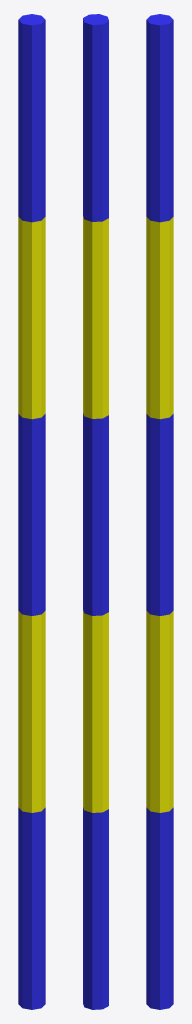
The model's file is equipment_0007_pole.glb.
The picture shows the model from 3 angles, left to right: view 1: azimuth 90°, elevation 25°; view 2: azimuth 210°, elevation 25°; view 3: azimuth 270°, elevation 25°; orthographic projection.
Parts seen in each view (by area): view 1: pole, pole2; view 2: pole, pole2; view 3: pole, pole2.
Boxes of the visible parts, bbox=[...] form: pole: bbox=[18, 14, 45, 1009]; pole2: bbox=[18, 217, 45, 812]; pole: bbox=[83, 14, 108, 1009]; pole2: bbox=[83, 216, 108, 812]; pole: bbox=[146, 14, 173, 1009]; pole2: bbox=[146, 217, 173, 812].
Size of the model in its own units: 4 by 160 by 4.
